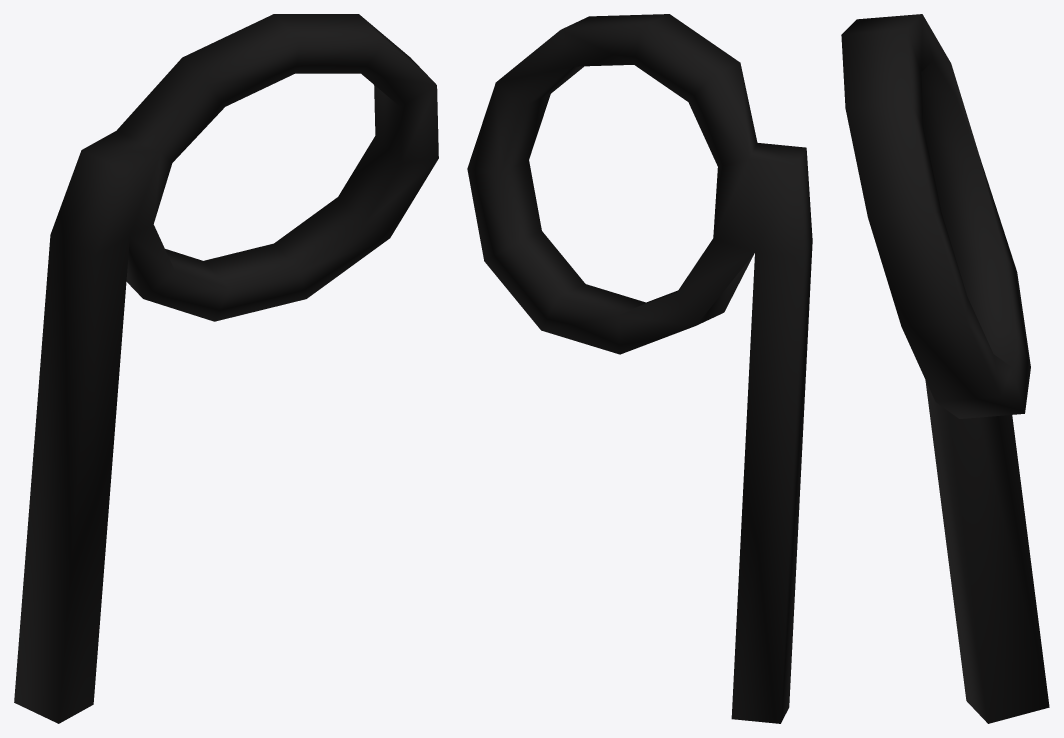
The model's file is Monocle.gltf.
3 views of the same model, side by side, from view 1: azimuth 30°, elevation 25°; view 2: azimuth 150°, elevation 25°; view 3: azimuth 270°, elevation 25° (orthographic). The views are drawn at different scales.
Visible parts, largest first — view 1: MONOCLE; view 2: MONOCLE; view 3: MONOCLE.
Part boxes in pixels (box(x1,y1,x2,y2)): MONOCLE: box(14, 14, 438, 723); MONOCLE: box(467, 14, 812, 723); MONOCLE: box(841, 14, 1049, 723).
Size of the model in its own units: 0.0955 by 0.1677 by 0.0407.
1 material, 1 textured.
